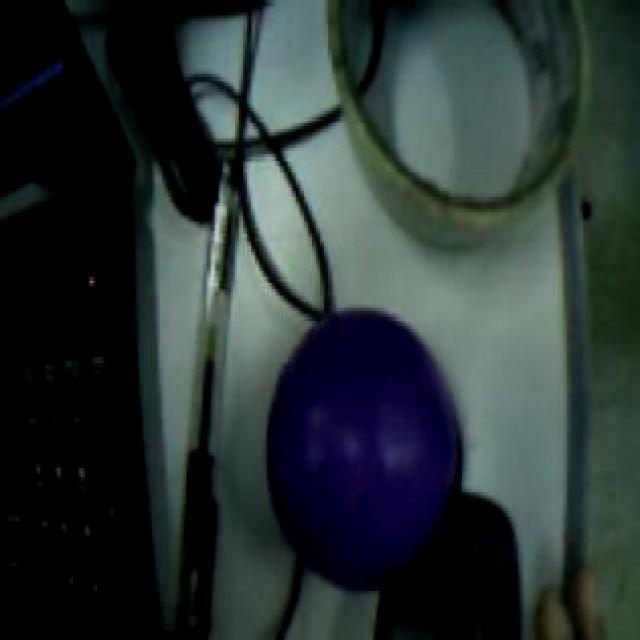BallPurple: (268, 308, 460, 592)
